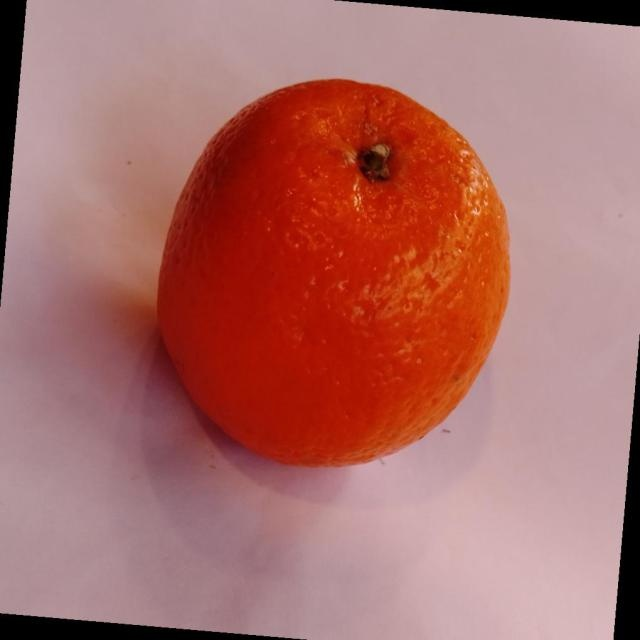agrume: (155, 76, 511, 468)
